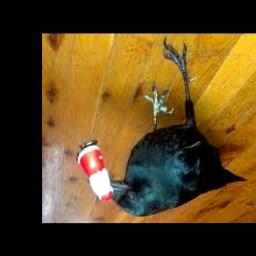Crow: (97, 39, 248, 217)
